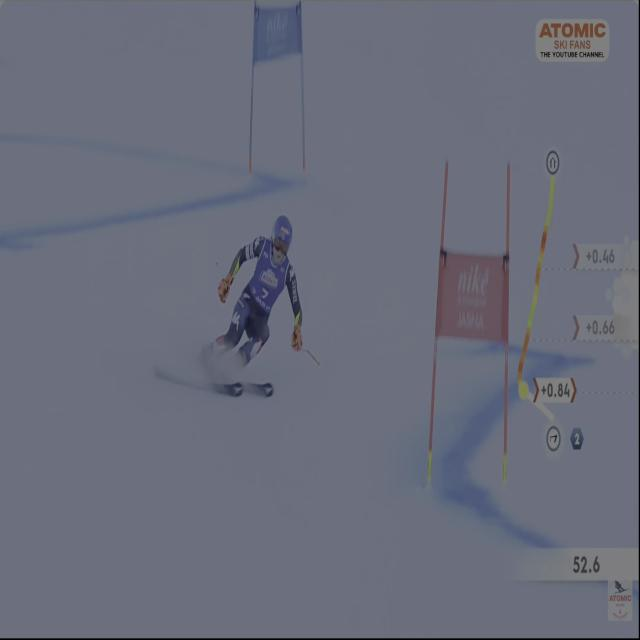gate: (426, 143, 459, 516), (493, 156, 526, 498), (242, 0, 267, 178), (290, 0, 312, 170)
